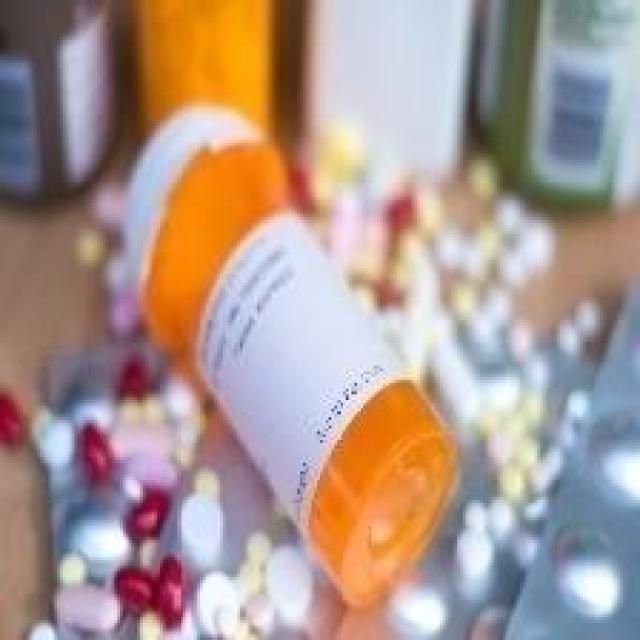Medicine: (34, 69, 599, 629)
